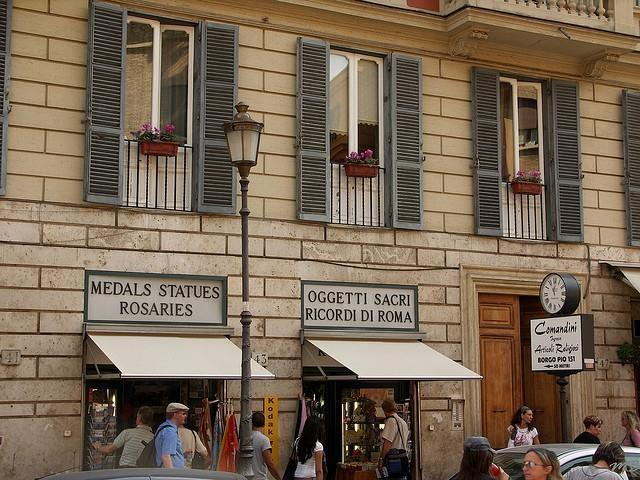car: (447, 443, 640, 480), (36, 466, 250, 480)
